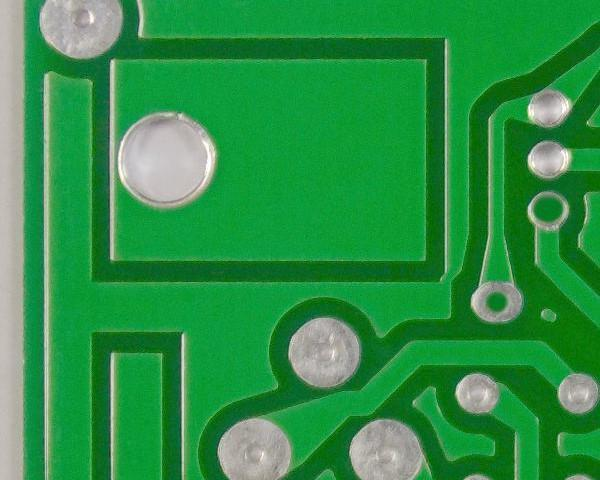missing hole: (468, 279, 529, 328), (524, 189, 577, 232)
